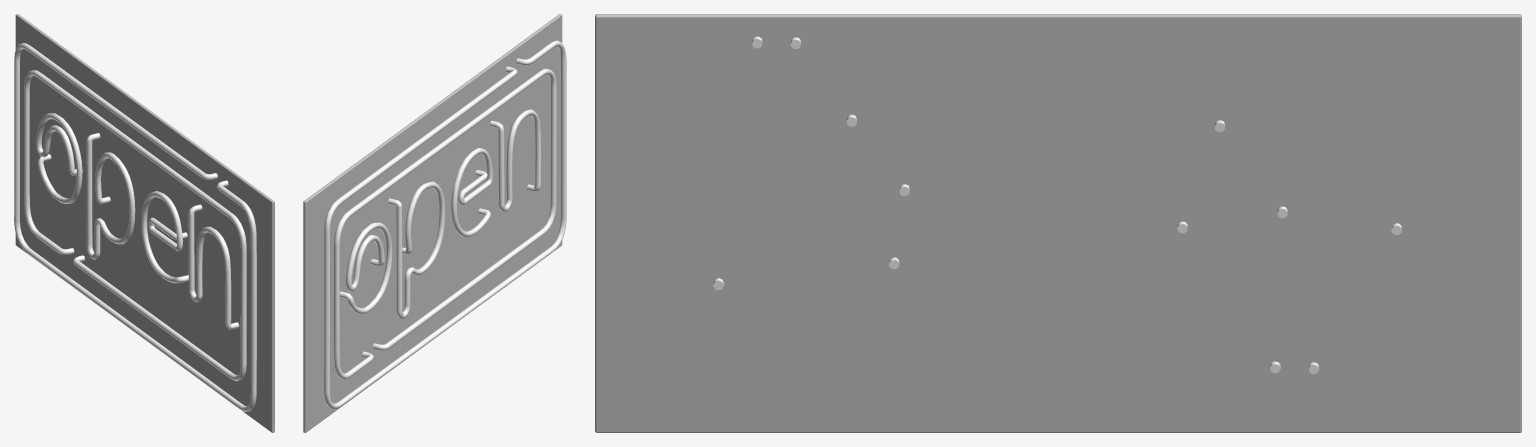
File: SM_LED_Open_02a.fbx
3 renders of one model, left to right at view 1: azimuth 30°, elevation 25°; view 2: azimuth 150°, elevation 25°; view 3: azimuth 270°, elevation 25°, orthographic. The views are drawn at different scales.
Parts seen in each view (by area): view 1: SM_LED_Open_02a_LOD0; view 2: SM_LED_Open_02a_LOD0; view 3: SM_LED_Open_02a_LOD0.
Boxes of the visible parts, x1,y1,x2,y2 form: SM_LED_Open_02a_LOD0: (14,14,274,432); SM_LED_Open_02a_LOD0: (303,14,566,432); SM_LED_Open_02a_LOD0: (595,14,1521,432).
Size of the model in its own units: 1.8 by 43.13 by 21.44.
